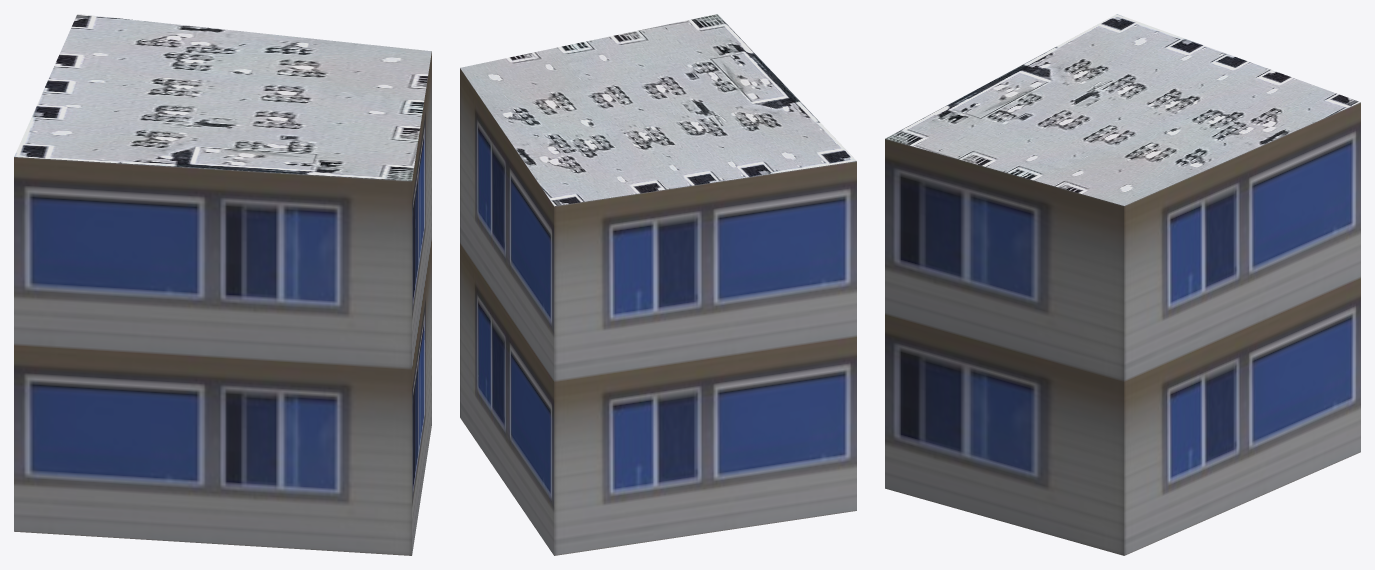
File: ResTex__2836.fbx
The picture shows the model from 3 angles, left to right: view 1: azimuth 30°, elevation 25°; view 2: azimuth 150°, elevation 25°; view 3: azimuth 270°, elevation 25°; orthographic projection. The views are drawn at different scales.
Parts seen in each view (by area): view 1: CityEngineMaterial_23_m, CityEngineMaterial_8_m; view 2: CityEngineMaterial_23_m, CityEngineMaterial_8_m; view 3: CityEngineMaterial_23_m, CityEngineMaterial_8_m.
Boxes of the visible parts, x1,y1,x2,y2 form: CityEngineMaterial_23_m: (14, 51, 431, 555); CityEngineMaterial_8_m: (14, 14, 431, 180); CityEngineMaterial_23_m: (460, 68, 856, 555); CityEngineMaterial_8_m: (460, 14, 856, 206); CityEngineMaterial_23_m: (885, 102, 1360, 555); CityEngineMaterial_8_m: (885, 14, 1360, 205).
Size of the model in its own units: 7.06 by 6 by 7.4.
2 materials, 2 textured.
